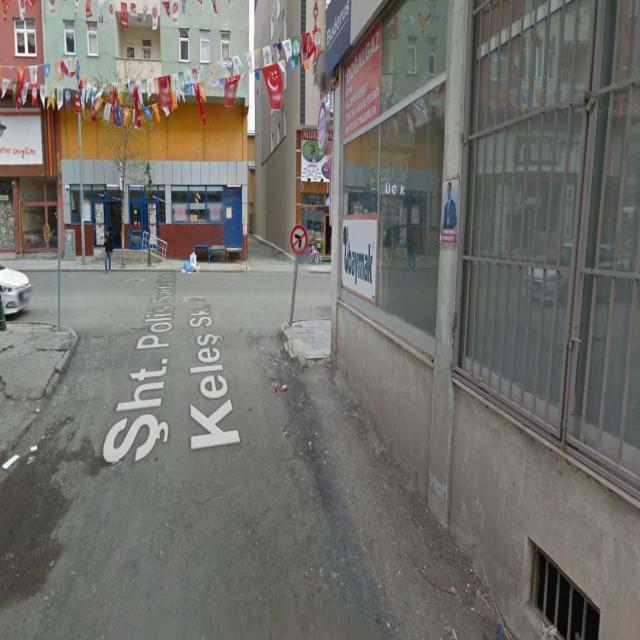soladonulmez: (291, 226, 305, 252)
